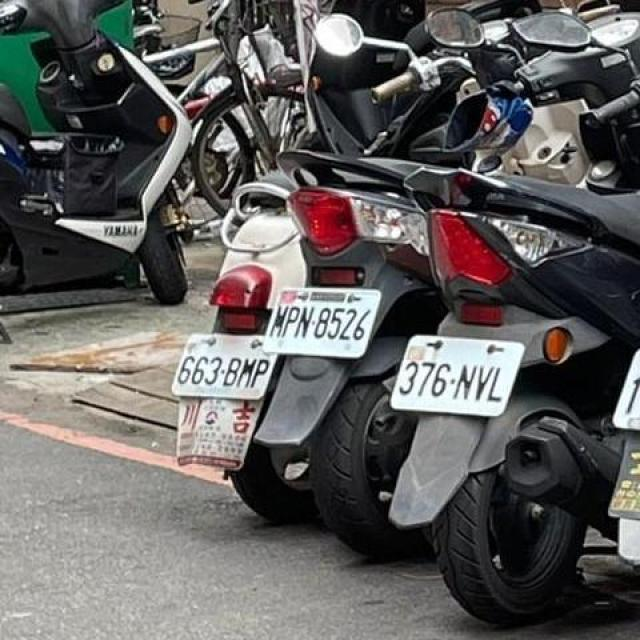W: (387, 327, 533, 425), (258, 275, 386, 365), (164, 324, 284, 411), (608, 342, 640, 454)
